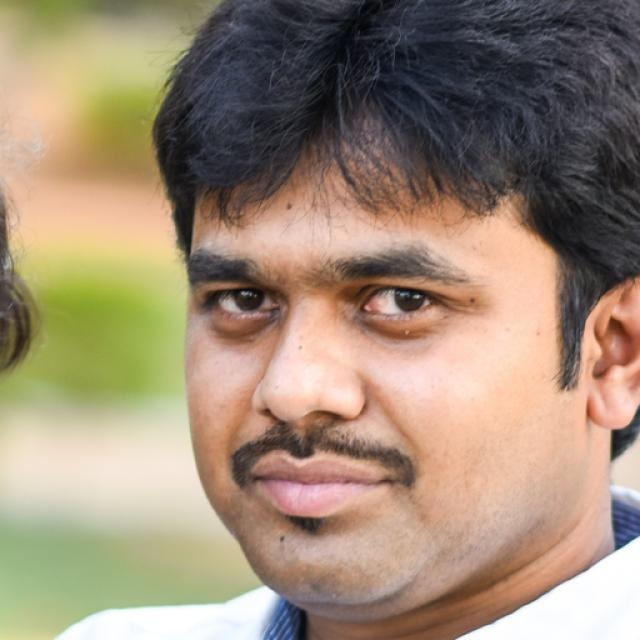Dark Circle: (351, 307, 454, 352), (211, 305, 282, 345)
